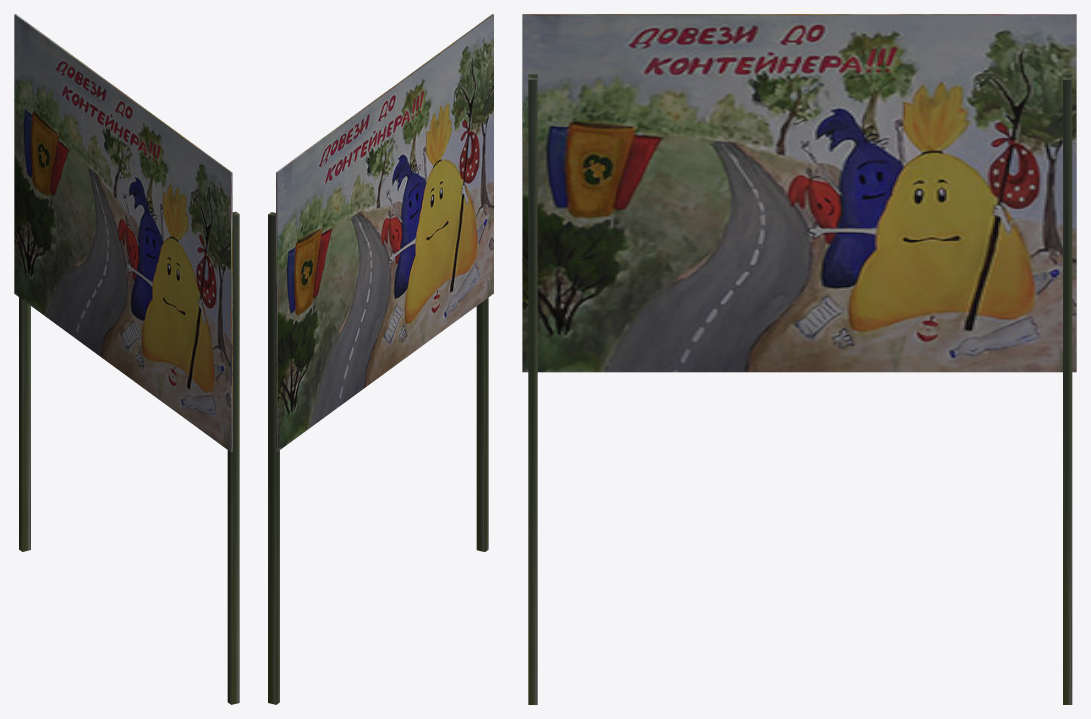
The model's file is r402_beregite_les4.FBX.
3 views of the same model, side by side, from view 1: azimuth 30°, elevation 25°; view 2: azimuth 150°, elevation 25°; view 3: azimuth 270°, elevation 25° (orthographic). The views are drawn at different scales.
Parts seen in each view (by area): view 1: r402_beregite_les4; view 2: r402_beregite_les4; view 3: r402_beregite_les4.
Boxes of the visible parts, x1,y1,x2,y2 form: r402_beregite_les4: [14, 14, 239, 704]; r402_beregite_les4: [268, 14, 493, 704]; r402_beregite_les4: [522, 14, 1076, 704].
Size of the model in its own units: 6.74 by 226 by 307.
